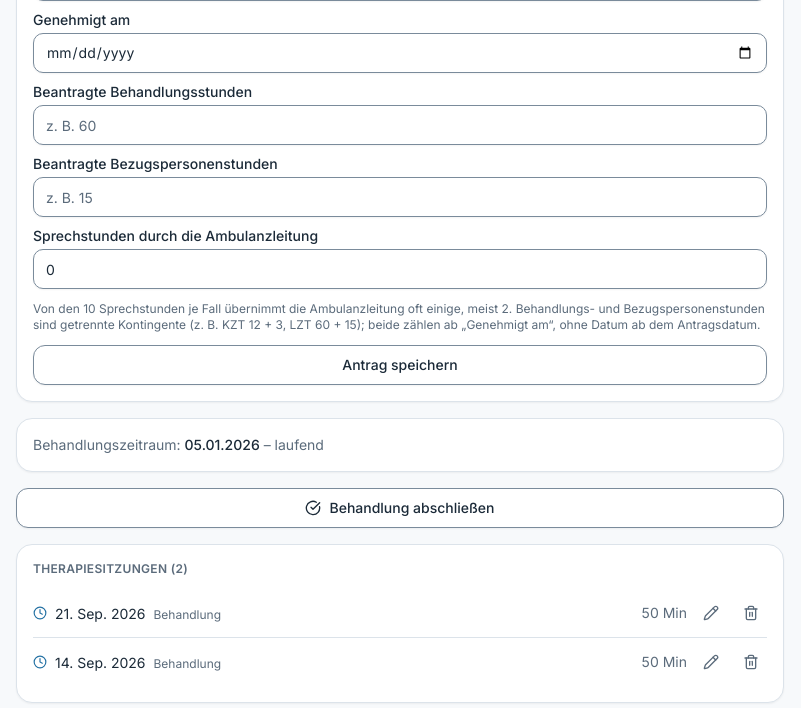
Scenario: PatientDetailClient › Chiffre bearbeiten (#74) › übernimmt eine in einem anderen Tab geänderte Chiffre ins unbearbeitete Feld
(page scrolled)
Click the button "Antrag speichern" at (400, 365), box [33,345,767,385]
(page scrolled)
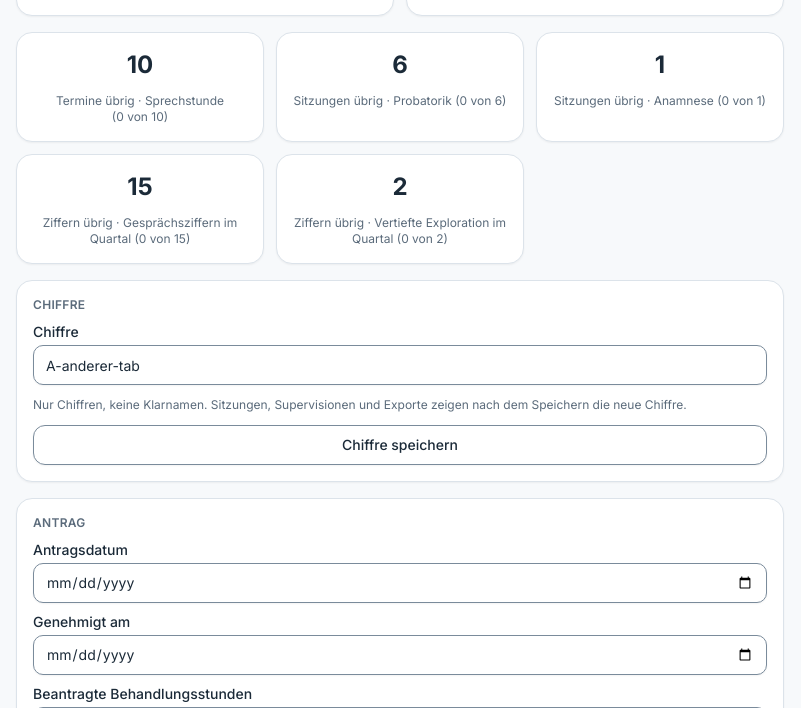
Expected: the field labelled "Chiffre" holds "A-anderer-tab", [33,345,767,385]
